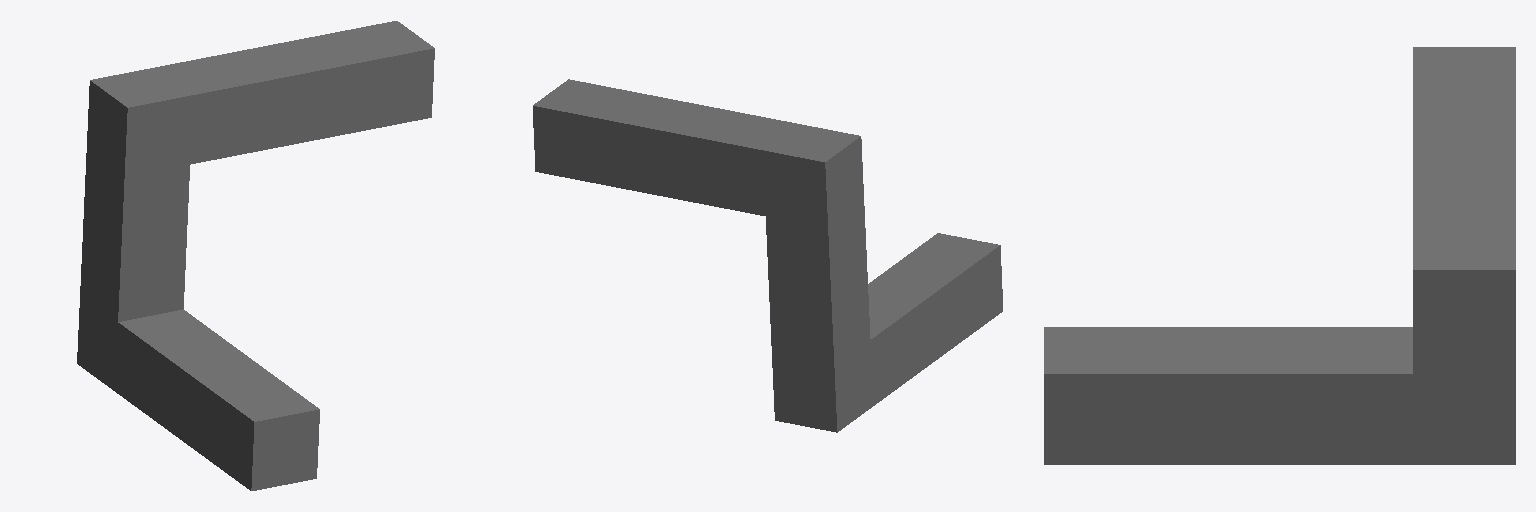
The robot description file, URDF, robot "Twistycool_robot":
<?xml version="1.0" ?>
<robot name="Twistycool_robot">
  <link name="world"/>
  <link name="empty_link_x"/>
  <link name="empty_link_y"/>
  <link name="empty_link_z"/>
  <link name="empty_link_yaw"/>
  <link name="empty_link_pitch"/>
  <link name="body">
    <collision>
      <origin xyz="0 0 0" rpy="0 0 0"/>
      <geometry>
        <mesh filename="meshes/Twistycool_robot2.dae" scale="0.006 0.006 0.006"/>
      </geometry>
       <material name="grey">
        <color rgba="0.5 0.5 0.5 0.5"/>
      </material>
    </collision>
    <visual>
      <origin xyz="0 0 0" rpy="0 0 0"/>
      <geometry>
        <mesh filename="meshes/Twistycool_robot2.dae" scale="0.006 0.006 0.006"/>
      </geometry>
       <material name="grey">
        <color rgba="0.5 0.5 0.5 0.5"/>
      </material>
    </visual>
    <inertial>
      <mass value="10"/>
      <inertia ixx="1e-6" ixy="0.0" ixz="0.0" iyy="0.083" iyz="0.0" izz="0.083"/>
    </inertial>
  </link>
  <joint name="joint_translation_x" type="prismatic">
    <origin xyz="-0.0 -0.0 0" rpy="0 0 0"/>
    <axis xyz="1 0 0"/>
    <parent link="world"/>
    <child link="empty_link_x"/>
    <limit effort="1" lower="-1.5" upper="1.5" velocity="1"/>
  </joint>
  <joint name="joint_translation_y" type="prismatic">
    <origin xyz="0 0 0" rpy="0 0 0"/>
    <axis xyz="0 1 0"/>
    <parent link="empty_link_x"/>
    <child link="empty_link_y"/>
    <limit effort="1" lower="-1.5" upper="1.5" velocity="1"/>
  </joint>
  <joint name="joint_translation_z" type="prismatic">
    <origin xyz="0 0 0" rpy="0 0 0"/>
    <axis xyz="0 0 1"/>
    <parent link="empty_link_y"/>
    <child link="empty_link_z"/>
    <limit effort="1" lower="-0.5" upper="1.5" velocity="1"/>
  </joint>
  <joint name="joint_translation_yaw" type="revolute">
    <origin xyz="0 0 0" rpy="0 0 0"/>
    <axis xyz="0 0 1"/>
    <parent link="empty_link_z"/>
    <child link="empty_link_yaw"/>
    <limit effort="100" lower="-3.1415" upper="3.1415" velocity="1"/>
  </joint>
  <joint name="joint_translation_pitch" type="revolute">
    <origin xyz="0 0 0" rpy="0 0 0"/>
    <axis xyz="0 1 0"/>
    <parent link="empty_link_yaw"/>
    <child link="empty_link_pitch"/>
    <limit effort="100" lower="-1.57" upper="1.57" velocity="1"/>
  </joint>
  <joint name="joint_translation_roll" type="revolute">
    <origin xyz="0 0 0" rpy="0 0 0"/>
    <axis xyz="1 0 0"/>
    <parent link="empty_link_pitch"/>
    <child link="body"/>
    <limit effort="100" lower="-3.1415" upper="3.1415" velocity="1"/>
  </joint>
</robot>

--- Facts derived from the render (not from the file) ---
Views: 3 orthographic renders of the robot side by side, from view 1: azimuth 30°, elevation 25°; view 2: azimuth 150°, elevation 25°; view 3: azimuth 270°, elevation 25°.
Robot: Twistycool_robot — 7 links, 6 joints (3 revolute, 3 prismatic); root link world; default pose: all joints at 0.
Visible links, largest first — view 1: body; view 2: body; view 3: body.
Link boxes in pixels (x1=…): body: x1=77, y1=21, x2=434, y2=490; body: x1=533, y1=79, x2=1002, y2=432; body: x1=1044, y1=47, x2=1515, y2=464.
Size in the robot's own frame: 0.3434 by 0.324 by 0.291 metres.
1 mesh visuals loaded from 1 distinct referenced files (1 Collada DAE).
